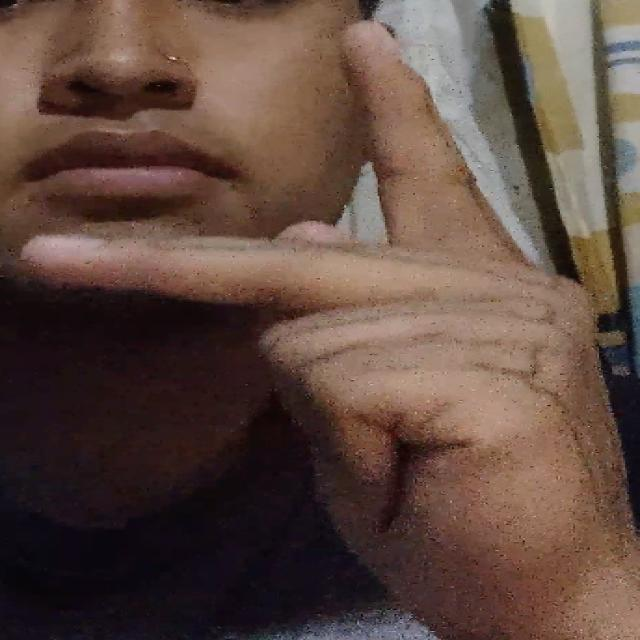P: (20, 14, 640, 640)
